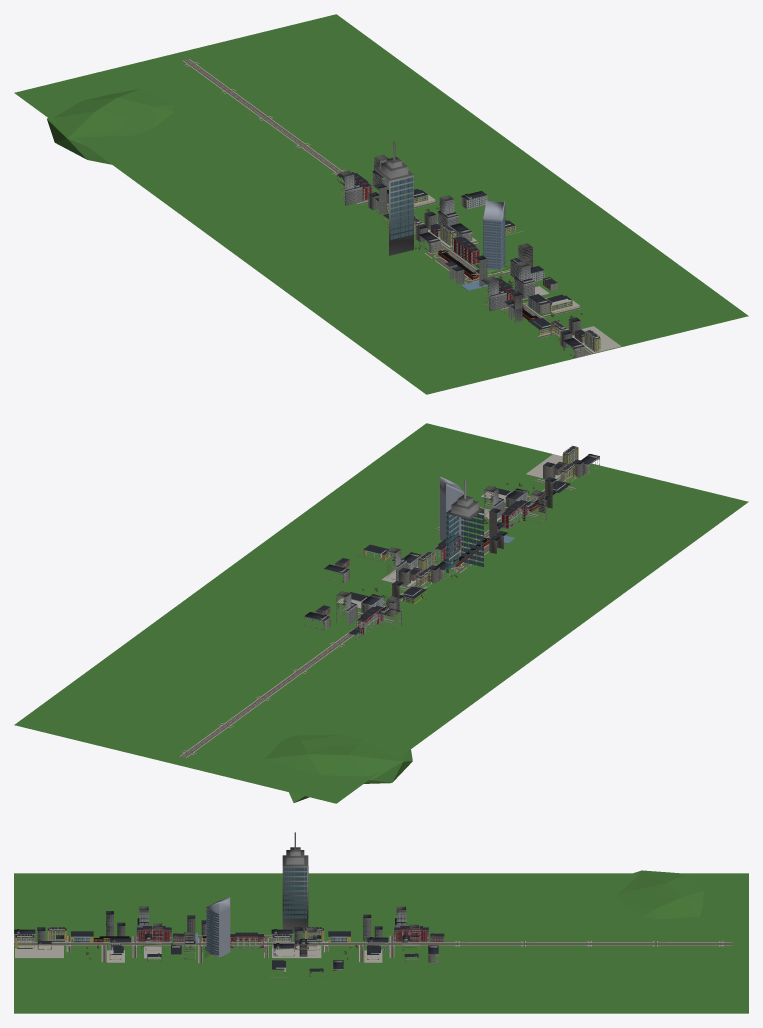
3 views of the same model, one above another, from view 1: azimuth 30°, elevation 25°; view 2: azimuth 150°, elevation 25°; view 3: azimuth 270°, elevation 25° (orthographic). The views are drawn at different scales.
Parts seen in each view (by area): view 1: City_Export; view 2: City_Export; view 3: City_Export.
Part boxes in pixels (bbox=[...]): City_Export: bbox=[14, 14, 748, 394]; City_Export: bbox=[14, 423, 748, 803]; City_Export: bbox=[14, 832, 748, 1013].
Bounding box in the file's own units: 773 × 274 × 1674.
